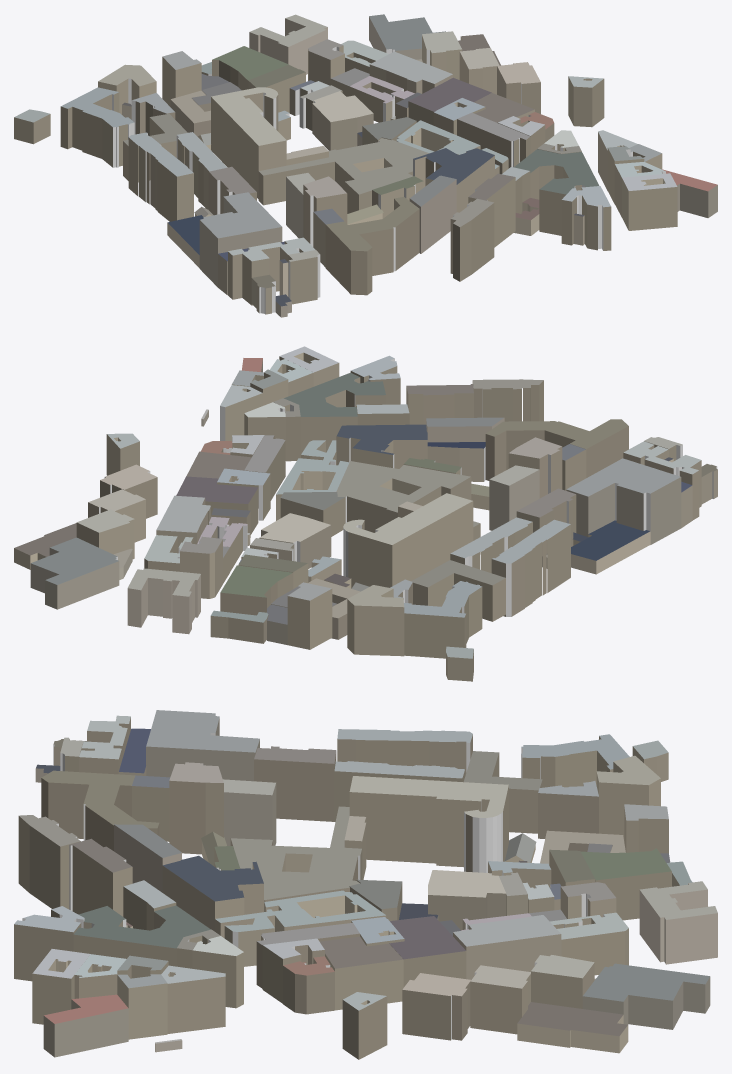
3 views of the same model, one above another, from view 1: azimuth 30°, elevation 25°; view 2: azimuth 150°, elevation 25°; view 3: azimuth 270°, elevation 25° (orthographic). The views are drawn at different scales.
Visible parts, largest first — view 1: tuile; view 2: tuile; view 3: tuile.
Boxes of the visible parts, x1=… form: tuile: x1=14, y1=14, x2=717, y2=317; tuile: x1=14, y1=346, x2=717, y2=681; tuile: x1=14, y1=710, x2=717, y2=1059.
Size of the model in its own units: 264 by 35 by 275.
